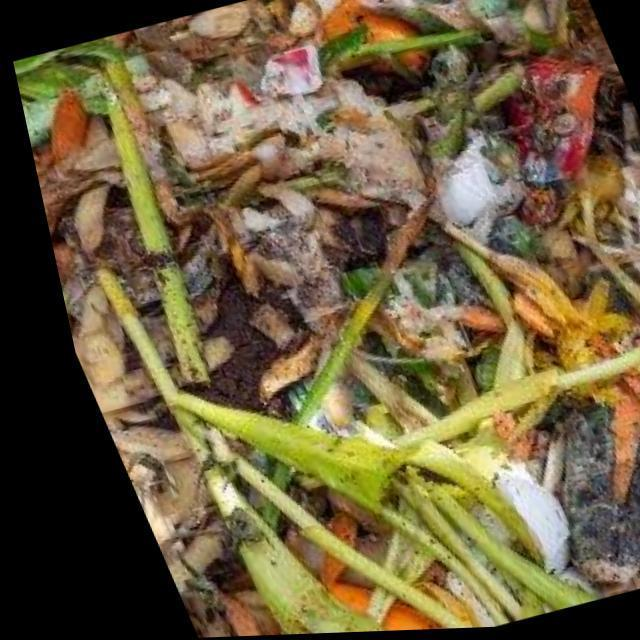Garbage: (11, 0, 640, 638)
